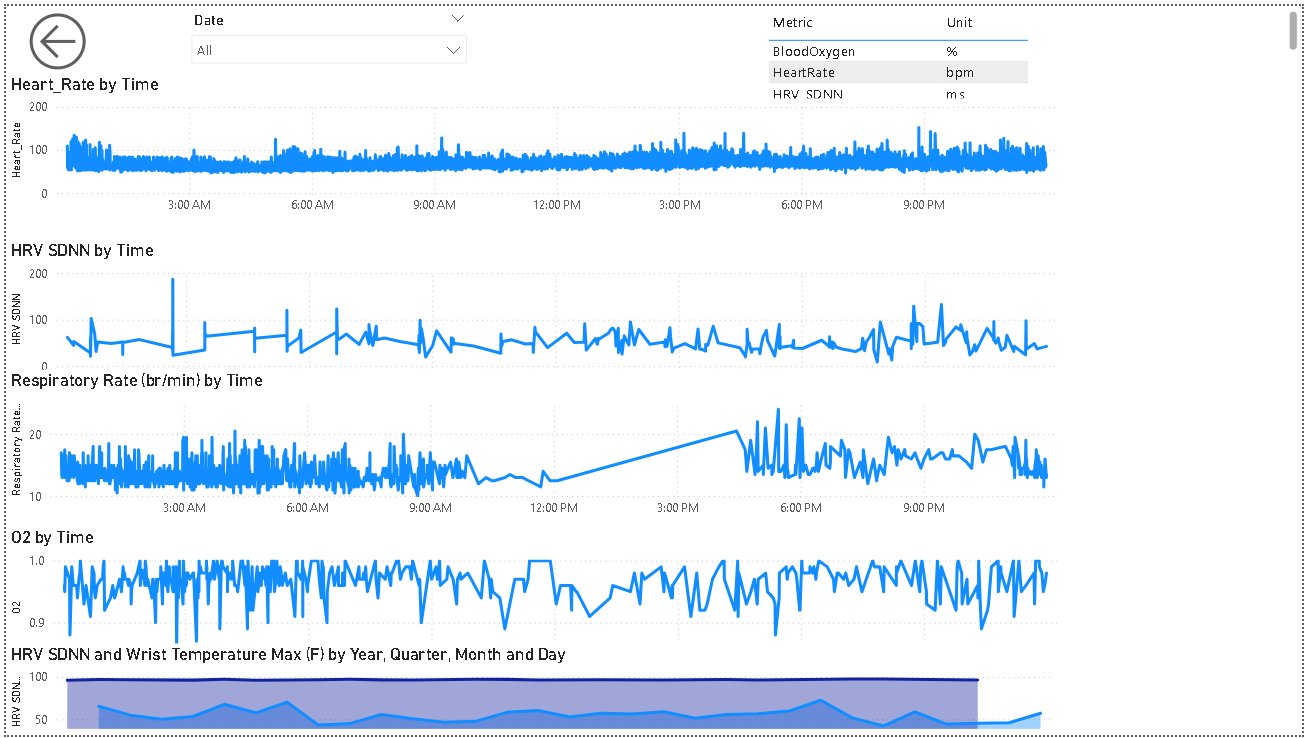

This screenshot's page, from the dashboard's own definition file:
{"tool":"powerbi","page":{"name":"Heart & Recovery","canvas":[1280,720],"ordinal":2},"visuals":[{"type":"lineChart","fields":{"Y":["Samples.Heart_Rate"],"Category":["Samples.Time"]},"box":[0,66.8,1053.3,148.4],"z":0},{"type":"slicer","fields":{"Values":["DimDate.Date"]},"box":[172.9,0,292.3,96.1],"z":1000},{"type":"tableEx","fields":{"Values":["Metric.Metric","Metric.Unit"]},"box":[746.5,0,533.8,96.1],"z":2000},{"type":"lineChart","fields":{"Y":["Samples.HRV SDNN"],"Category":["Samples.Time"]},"box":[0,230.5,1053.9,155.1],"z":3000},{"type":"lineChart","fields":{"Category":["Samples.Time"],"Y":["Samples.Respiratory Rate (br/min)"]},"box":[0,359.5,1053.9,155.1],"z":4000},{"type":"lineChart","fields":{"Category":["Samples.Time"],"Y":["Samples.O2"]},"box":[0,514.6,1053.9,155.1],"z":5000},{"type":"areaChart","fields":{"Category":["DimDate.Date.Variation.Date Hierarchy.Year","DimDate.Date.Variation.Date Hierarchy.Quarter","DimDate.Date.Variation.Date Hierarchy.Month","DimDate.Date.Variation.Date Hierarchy.Day"],"Y":["Samples.HRV SDNN","DailyMetrics.Wrist Temperature Max (F)"]},"box":[0,629,1037,90.5],"z":6000},{"type":"actionButton","box":[16.5,0,76.8,70],"z":7000}]}

Visuals, with their boxes in screenshot pixels (x1, y1, x2, y2), scaled from the page's 1280x720 canvas onto the 1307x738 screenshot:
lineChart - Samples.Heart_Rate x Samples.Time: 0:68:1076:221
slicer - DimDate.Date: 177:0:475:99
tableEx - Metric.Metric x Metric.Unit: 762:0:1306:99
lineChart - Samples.HRV SDNN x Samples.Time: 0:236:1076:395
lineChart - Samples.Time x Samples.Respiratory Rate (br/min): 0:368:1076:527
lineChart - Samples.Time x Samples.O2: 0:527:1076:686
areaChart - DimDate.Date.Variation.Date Hierarchy.Year x DimDate.Date.Variation.Date Hierarchy.Quarter: 0:645:1059:737
actionButton: 17:0:95:72
